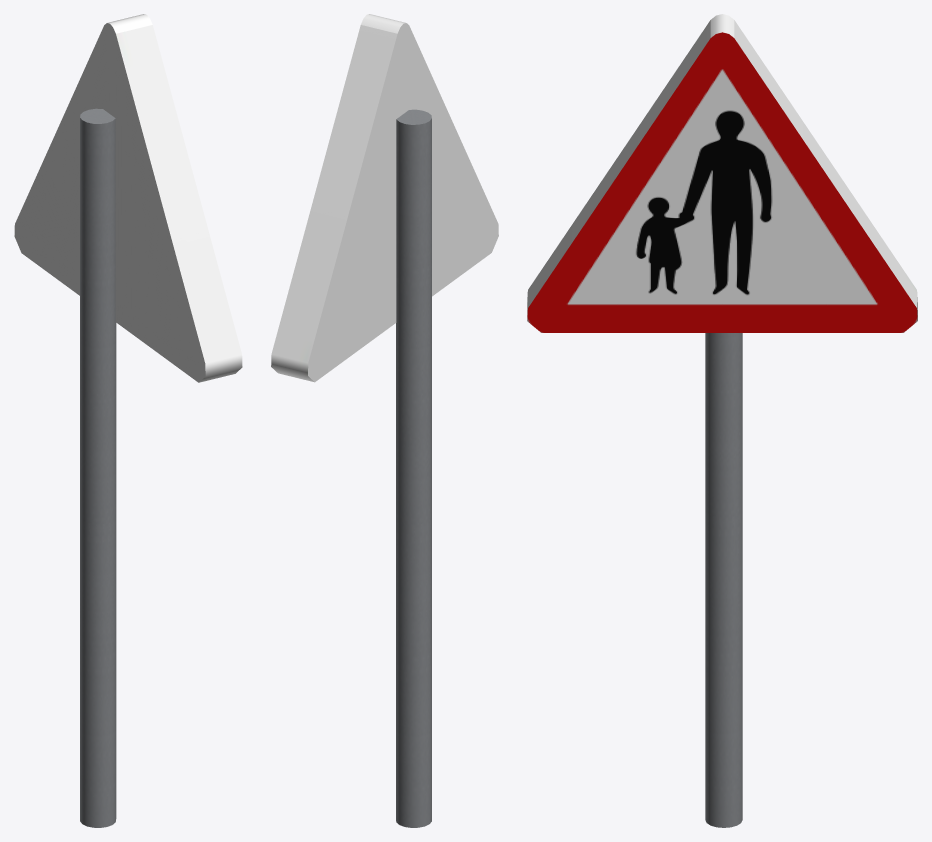
File: family sign.fbx
3 views of the same model, side by side, from view 1: azimuth 30°, elevation 25°; view 2: azimuth 150°, elevation 25°; view 3: azimuth 270°, elevation 25° (orthographic). The views are drawn at different scales.
Visible parts, largest first — view 1: pCube74; view 2: pCube74; view 3: pCube74.
Boxes of the visible parts, <box> form: pCube74: <box>14,14,242,827</box>; pCube74: <box>271,14,498,827</box>; pCube74: <box>527,14,917,827</box>.
Bounding box in the file's own units: 20.51 × 244 × 106.
1 material, 1 textured.
